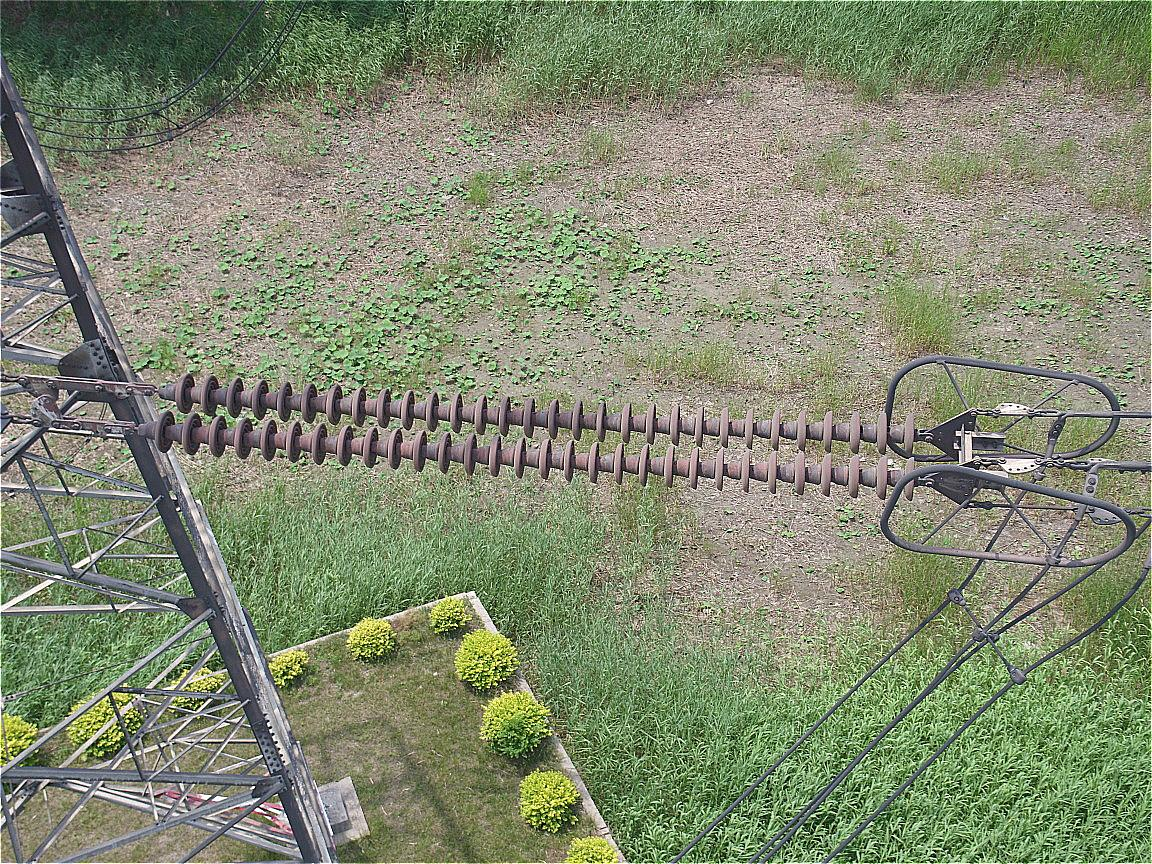insultor1: (157, 372, 918, 498)
